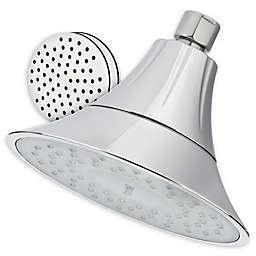Ducha: (8, 23, 255, 250)
